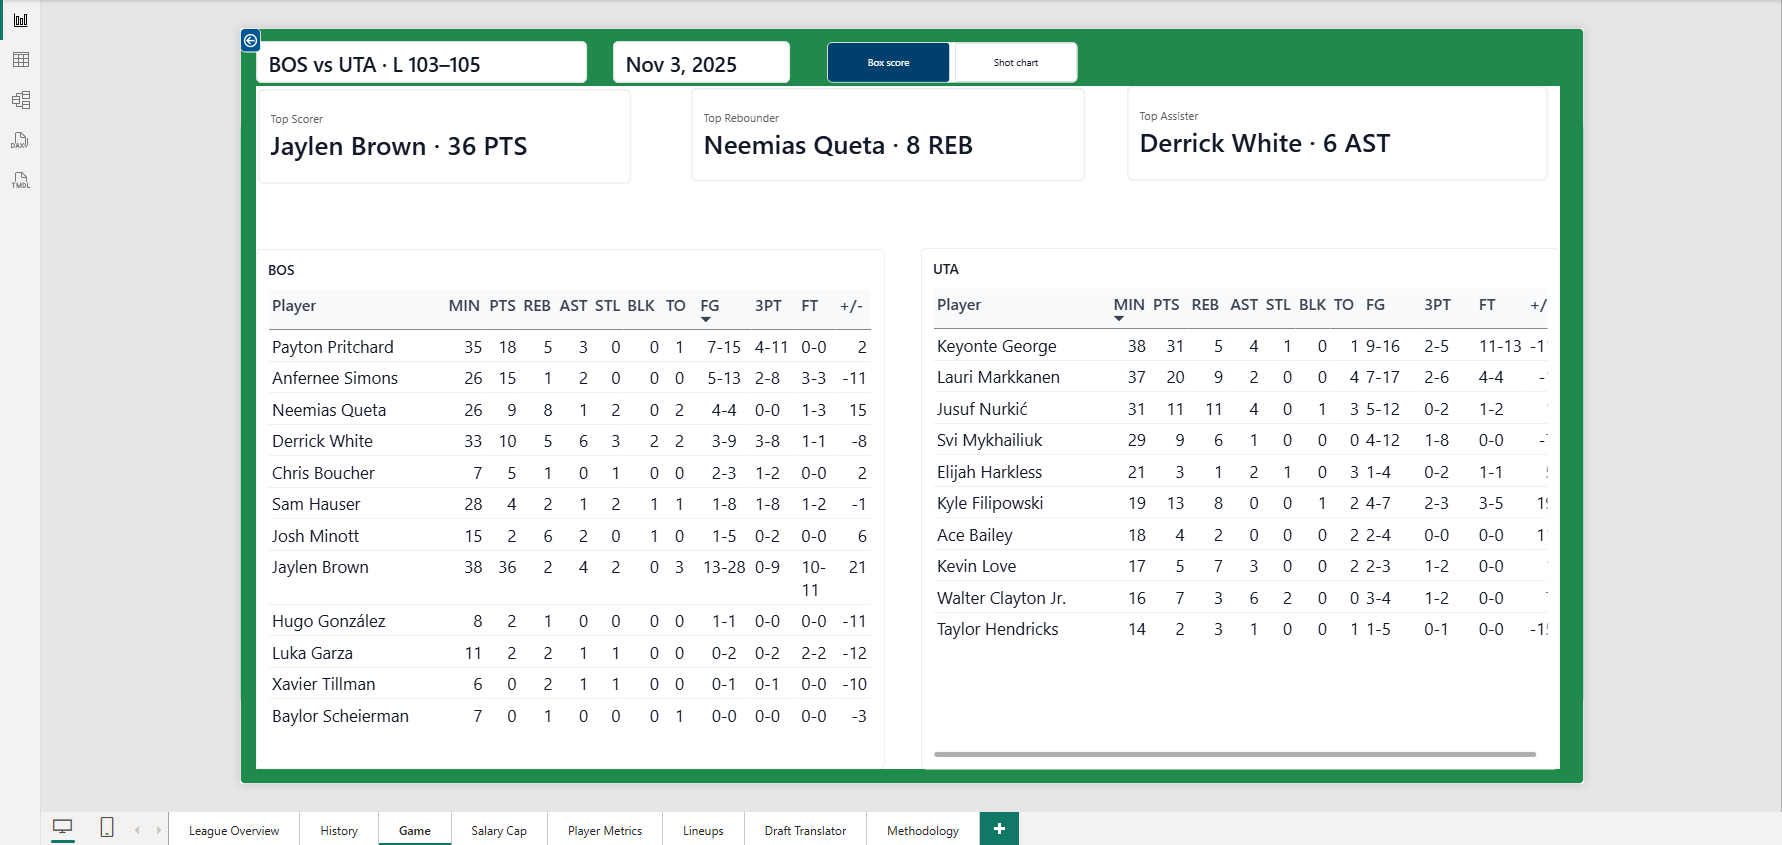

The dashboard page shown, as its layout file describes it:
{"tool":"powerbi","page":{"name":"Game","canvas":[1920,1080],"ordinal":2},"visuals":[{"type":"actionButton","box":[0,0,100,40],"z":0},{"type":"tableEx","title":"76ers","fields":{"Values":["PlayerBox.player_name","PlayerBox.MIN","PlayerBox.pts","PlayerBox.reb","PlayerBox.ast","PlayerBox.stl","PlayerBox.blk","PlayerBox.tov","PlayerBox.FG","PlayerBox.3PT","PlayerBox.FT","PlayerBox.plus_minus"]},"box":[0,279.6,927,586.4],"z":0,"group":"g1"},{"type":"cardVisual","fields":{"Data":["PlayerBox.Game Title"]},"box":[100,0,454.5,79.5],"z":1000},{"type":"tableEx","title":"Opponent","fields":{"Values":["PlayerBox.player_name","PlayerBox.MIN","PlayerBox.pts","PlayerBox.reb","PlayerBox.ast","PlayerBox.stl","PlayerBox.blk","PlayerBox.tov","PlayerBox.FG","PlayerBox.3PT","PlayerBox.FT","PlayerBox.plus_minus"]},"box":[979.7,279.6,940.7,586.4],"z":1000,"group":"g1"},{"type":"cardVisual","fields":{"Data":["PlayerBox.Game Date"]},"box":[577.3,0,295.5,79.5],"z":2000},{"type":"cardVisual","fields":{"Data":["PlayerBox.Top Scorer"]},"box":[0,102.3,426.8,150],"z":2000,"group":"g1"},{"type":"group","id":"g1","title":"Box score tab","box":[0,102.3,1920.5,763.6],"z":3000},{"type":"cardVisual","fields":{"Data":["PlayerBox.Top Rebounder"]},"box":[500.2,102.3,426.8,150],"z":3000,"group":"g1"},{"type":"cardVisual","fields":{"Data":["PlayerBox.Top Assister"]},"box":[1007.3,102.3,426.8,150],"z":4000,"group":"g1"},{"type":"bookmarkNavigator","box":[0,72.5,195,30],"z":5000}]}

Visuals, with their boxes on the page's 1920x1080 design canvas (x1, y1, x2, y2). These are canvas units, not pixel positions in the 1782x845 screenshot, which may show the page scaled, cropped or inside an application window:
actionButton: 0,0,100,40
"76ers" tableEx: 0,280,927,866
cardVisual - PlayerBox.Game Title: 100,0,554,80
"Opponent" tableEx: 980,280,1920,866
cardVisual - PlayerBox.Game Date: 577,0,873,80
cardVisual - PlayerBox.Top Scorer: 0,102,427,252
"Box score tab" group: 0,102,1920,866
cardVisual - PlayerBox.Top Rebounder: 500,102,927,252
cardVisual - PlayerBox.Top Assister: 1007,102,1434,252
bookmarkNavigator: 0,72,195,102
